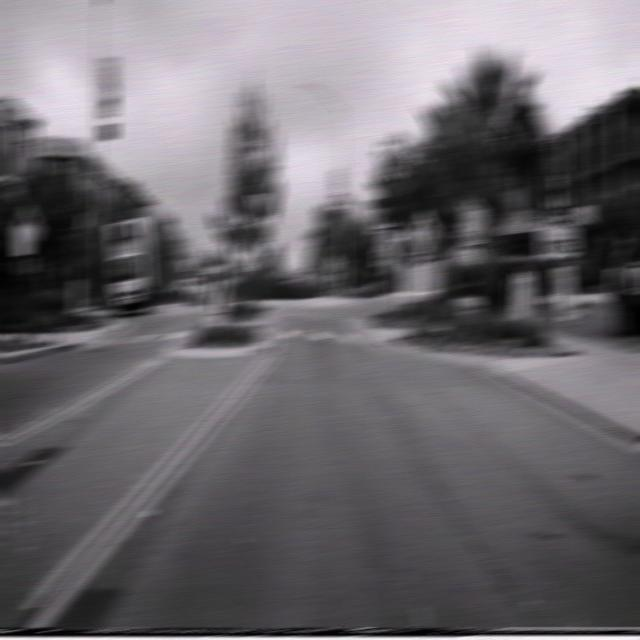pedestrianCrossing: (408, 206, 439, 255)
yield: (248, 192, 269, 220)
